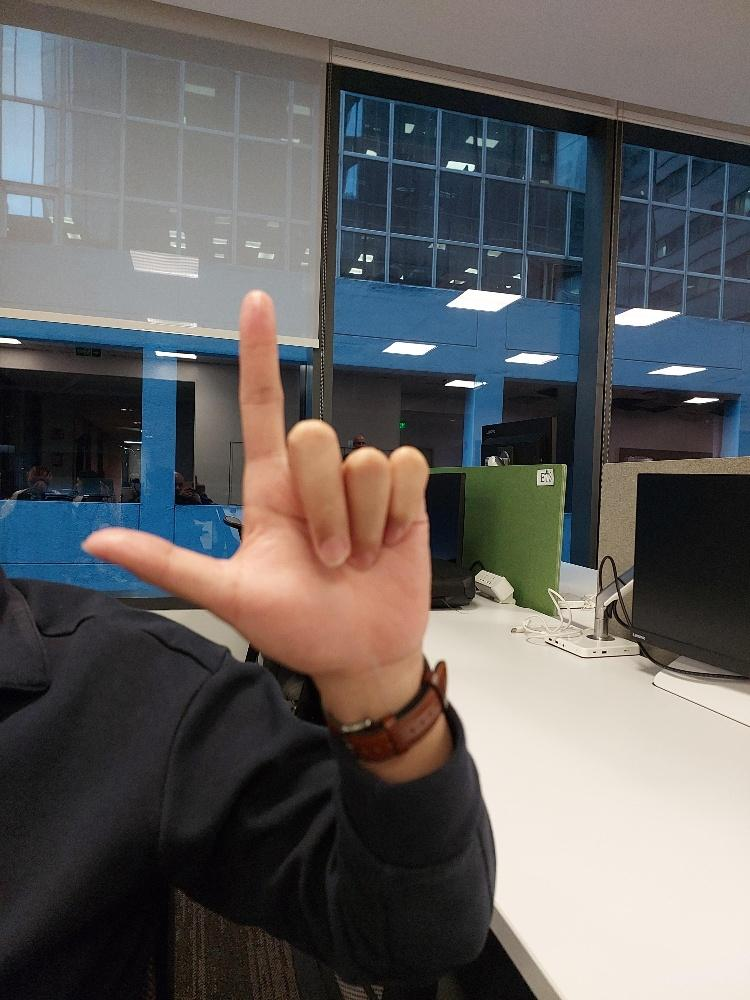l: (81, 291, 434, 673)
